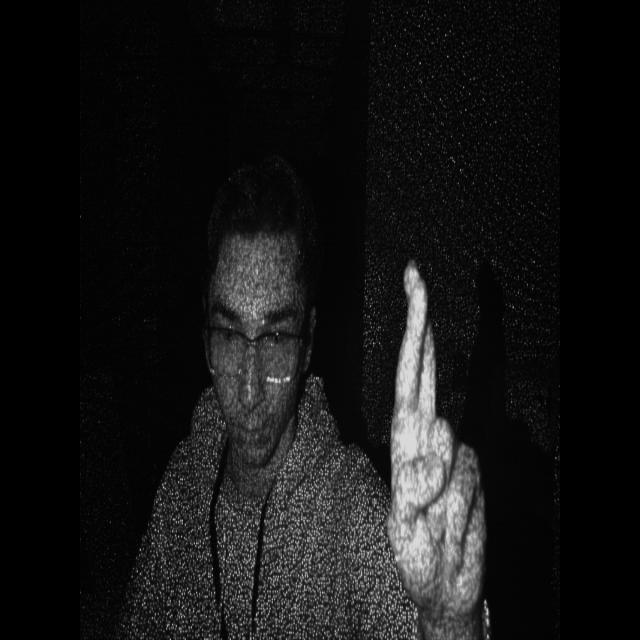R: (376, 236, 495, 631)
